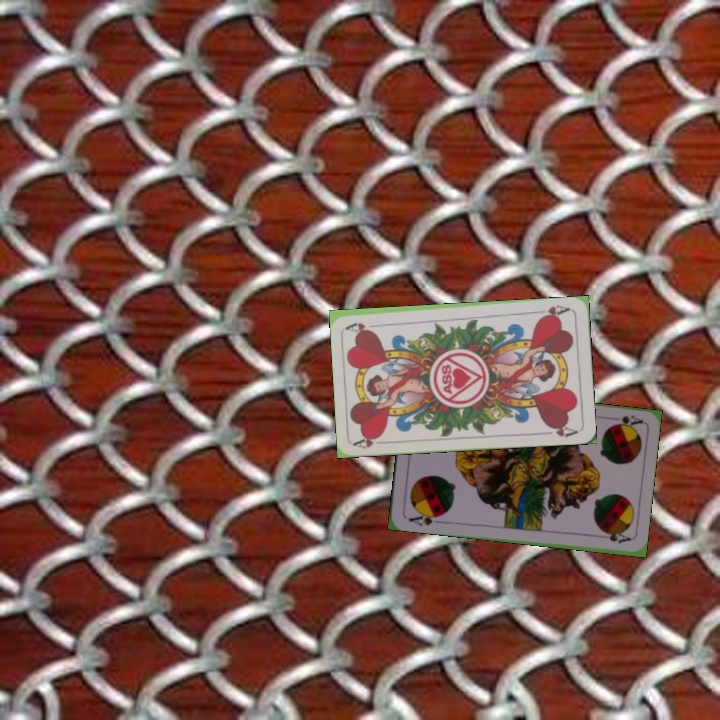HA: (351, 431, 392, 451), (532, 301, 572, 321)
SA: (405, 508, 445, 528), (607, 411, 645, 430)
